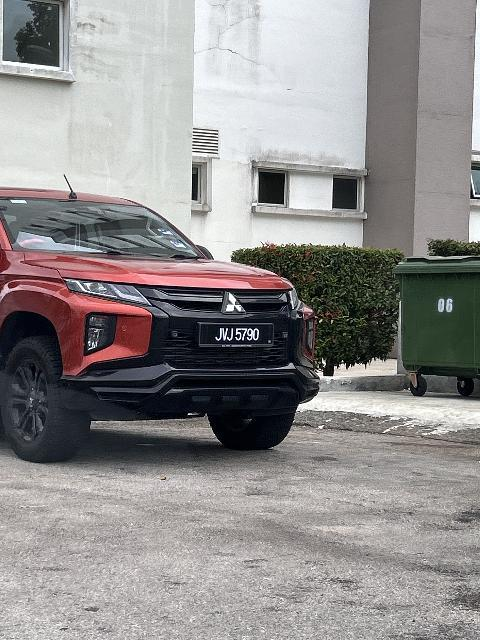JVJ5790: (197, 321, 279, 349)
License_Plate: (197, 321, 279, 349)
car: (2, 171, 327, 463)
